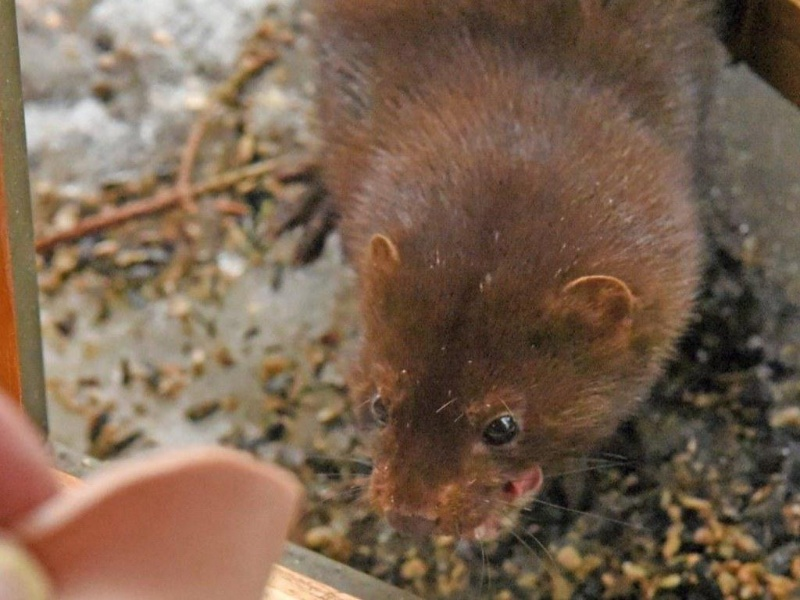minkish: (291, 1, 729, 543)
